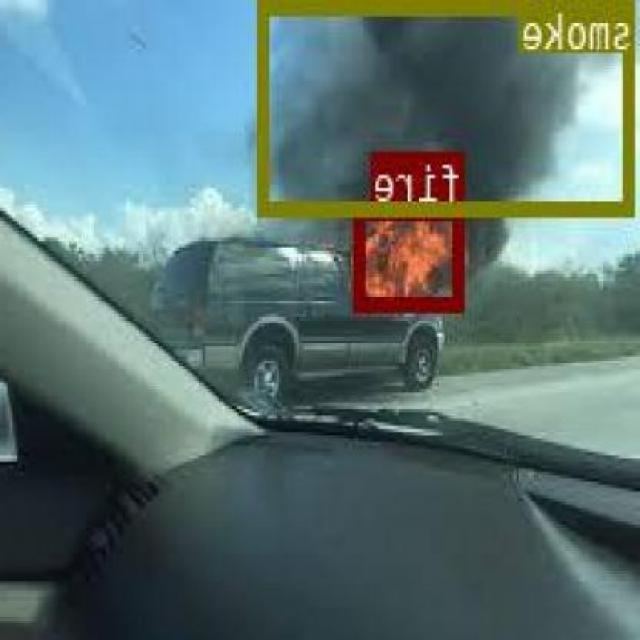Fire: (358, 204, 466, 308)
Smoke: (261, 0, 637, 214)
